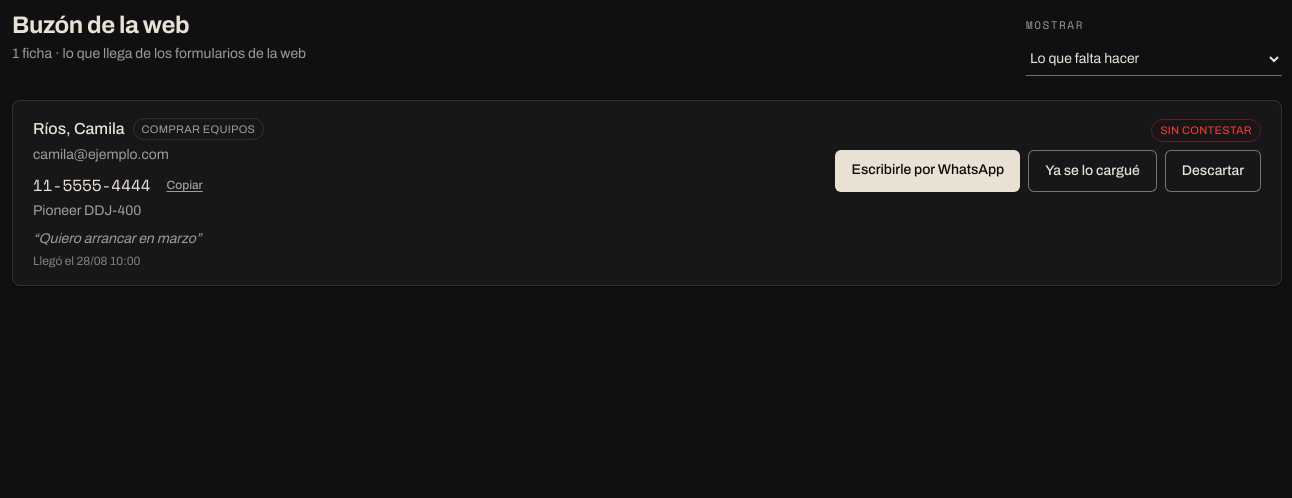
Scenario: convertir la ficha en cuenta › el botón está sólo adentro del panel, y no en una ficha con botón de un click
Expected: the text "Ríos, Camila" is shown, [33, 117, 124, 141]
Expected: the button "Crearle la cuenta" is not shown
Step 1. Click the button "Ya se lo cargué" → (1092, 170), box [1028, 150, 1157, 192]
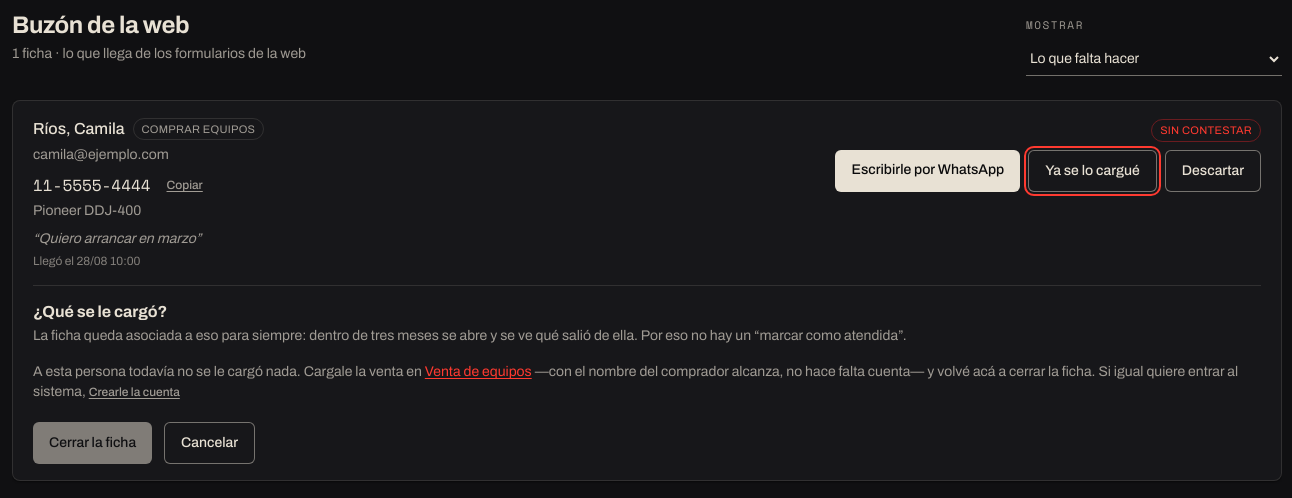
Now the button "Crearle la cuenta" is shown, box [89, 384, 180, 400]
